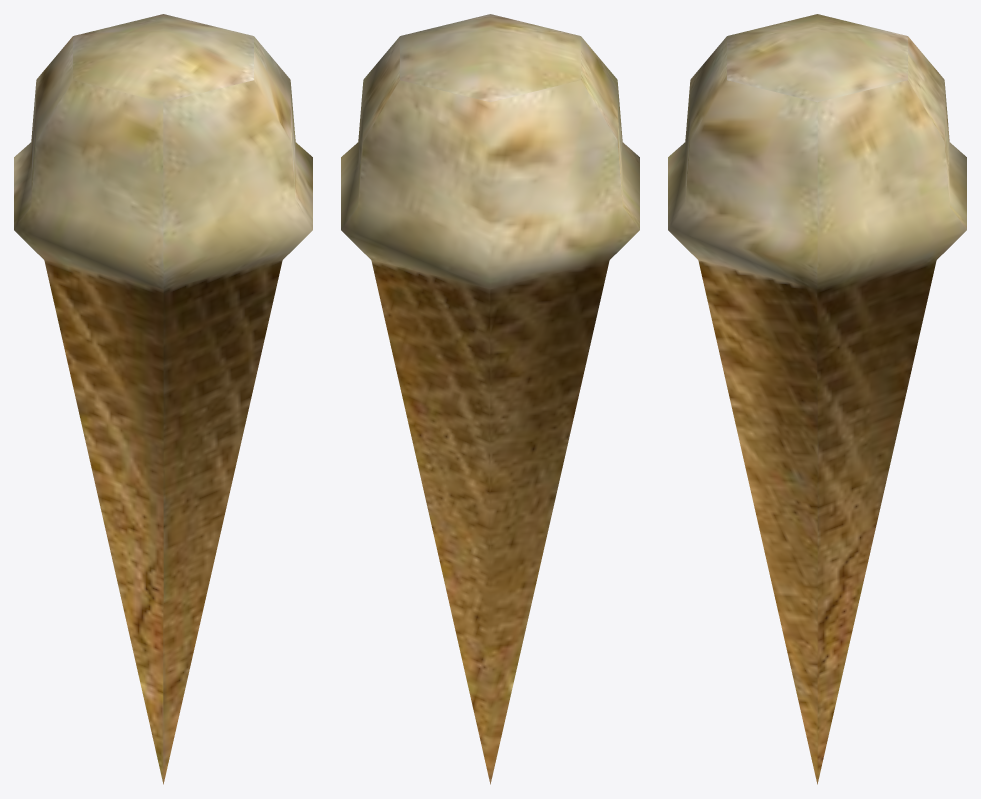
The model's file is Frozen.glb.
3 views of the same model, side by side, from view 1: azimuth 30°, elevation 25°; view 2: azimuth 150°, elevation 25°; view 3: azimuth 270°, elevation 25° (orthographic).
Visible parts, largest first — view 1: Frozen; view 2: Frozen; view 3: Frozen.
Boxes of the visible parts, <box> form: Frozen: <box>14,14,312,784</box>; Frozen: <box>341,14,639,784</box>; Frozen: <box>668,14,966,784</box>.
Size of the model in its own units: 0.082 by 0.1971 by 0.071.
1 material, 1 textured.
